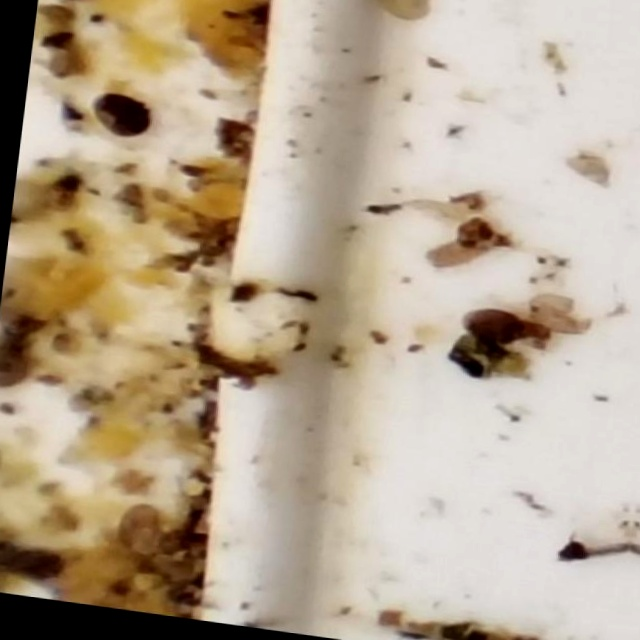varroa: (440, 300, 528, 350), (81, 96, 155, 149)
